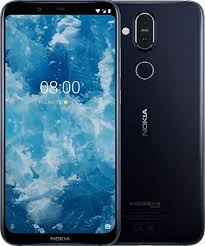nokia: (1, 1, 125, 246), (117, 1, 203, 245)
